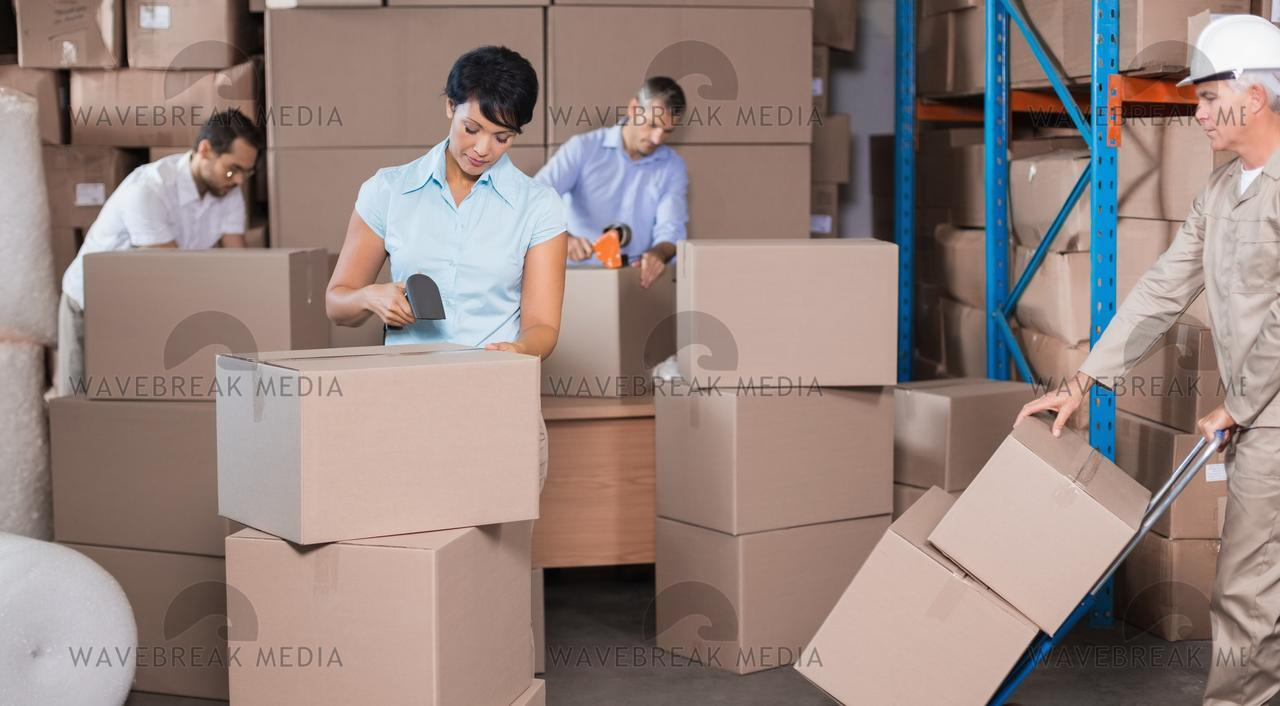epi: (1084, 11, 1278, 705)
noepi: (330, 34, 567, 354), (53, 104, 261, 414), (540, 57, 706, 323)
